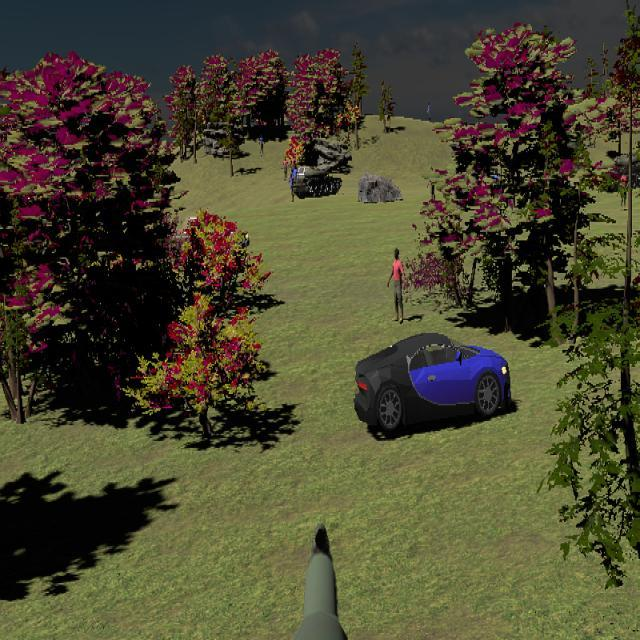Human: (387, 247, 407, 324)
Tank: (290, 165, 345, 199), (597, 151, 640, 190)
car: (353, 331, 512, 436)
